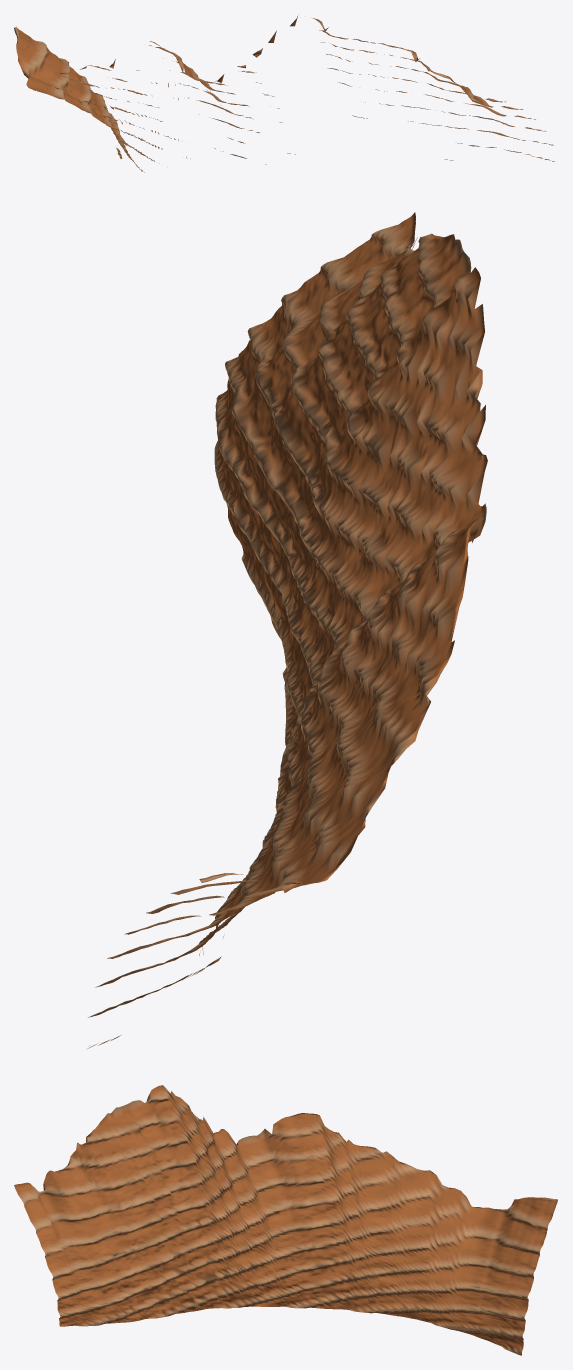
Rendered from terrain-006.glb.
The picture shows the model from 3 angles, top to bottom: view 1: azimuth 30°, elevation 25°; view 2: azimuth 150°, elevation 25°; view 3: azimuth 270°, elevation 25°; orthographic projection. The views are drawn at different scales.
Parts seen in each view (by area): view 1: terrain-006; view 2: terrain-006; view 3: terrain-006.
Boxes of the visible parts, bbox=[...] form: terrain-006: bbox=[14, 16, 554, 172]; terrain-006: bbox=[87, 212, 487, 1048]; terrain-006: bbox=[14, 1085, 557, 1355].
Size of the model in its own units: 169 by 155 by 292.
